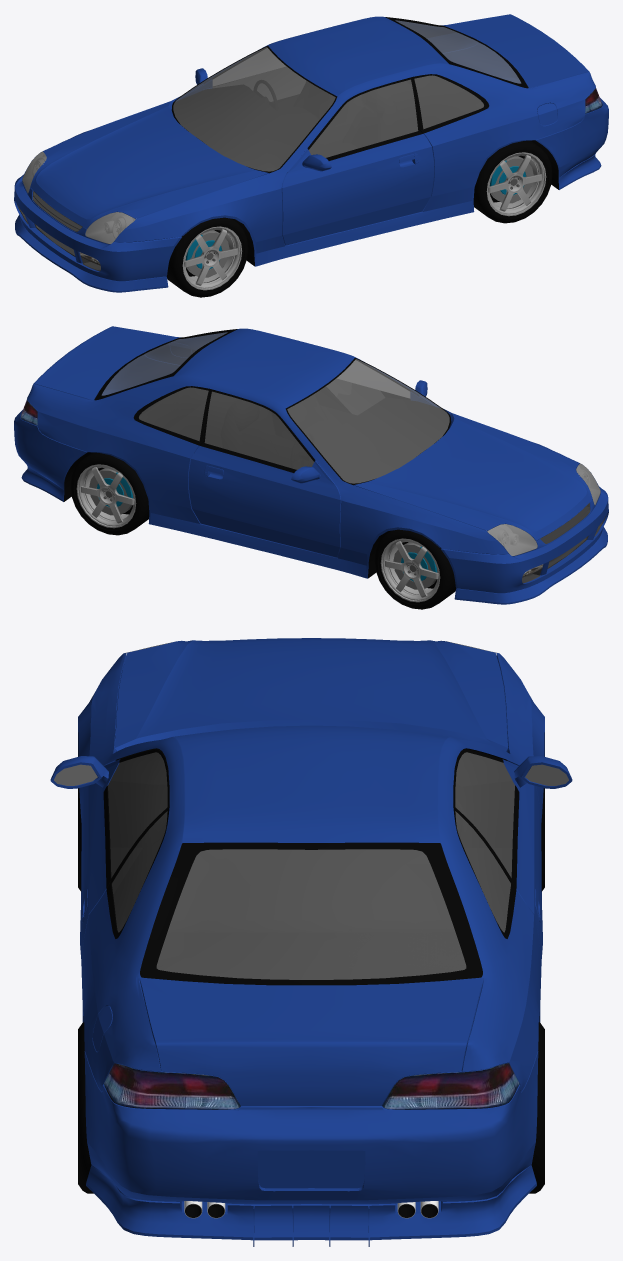
File: prelude.glb
The picture shows the model from 3 angles, top to bottom: view 1: azimuth 30°, elevation 25°; view 2: azimuth 150°, elevation 25°; view 3: azimuth 270°, elevation 25°; orthographic projection. The views are drawn at different scales.
Visible parts, largest first — view 1: body, Cylinder_Material.001_0.001, Cylinder_Material.001_0, Object_5_leather_black.001_0, mirrors; view 2: body, Cylinder_Material.001_0.001, Cylinder_Material.001_0, Object_5_leather_black.001_0, mirrors; view 3: body, body.002, mirrors, Cylinder_Material.001_0.001.
Boxes of the visible parts, x1,y1,x2,y2 form: body: (14,14,608,292); Cylinder_Material.001_0.001: (473,140,552,223); Cylinder_Material.001_0: (167,217,248,297); Object_5_leather_black.001_0: (293,81,398,147); mirrors: (195,68,331,171); body: (14,326,608,604); Cylinder_Material.001_0.001: (70,452,149,535); Cylinder_Material.001_0: (374,529,455,609); Object_5_leather_black.001_0: (221,394,327,459); mirrors: (291,380,427,483); body: (78,638,544,1246); body.002: (104,1063,519,1109); mirrors: (50,756,572,788); Cylinder_Material.001_0.001: (78,1022,544,1193).
Bounding box in the file's own units: 3.01 × 0.8489 × 1.28.
18 materials, 2 textured.
